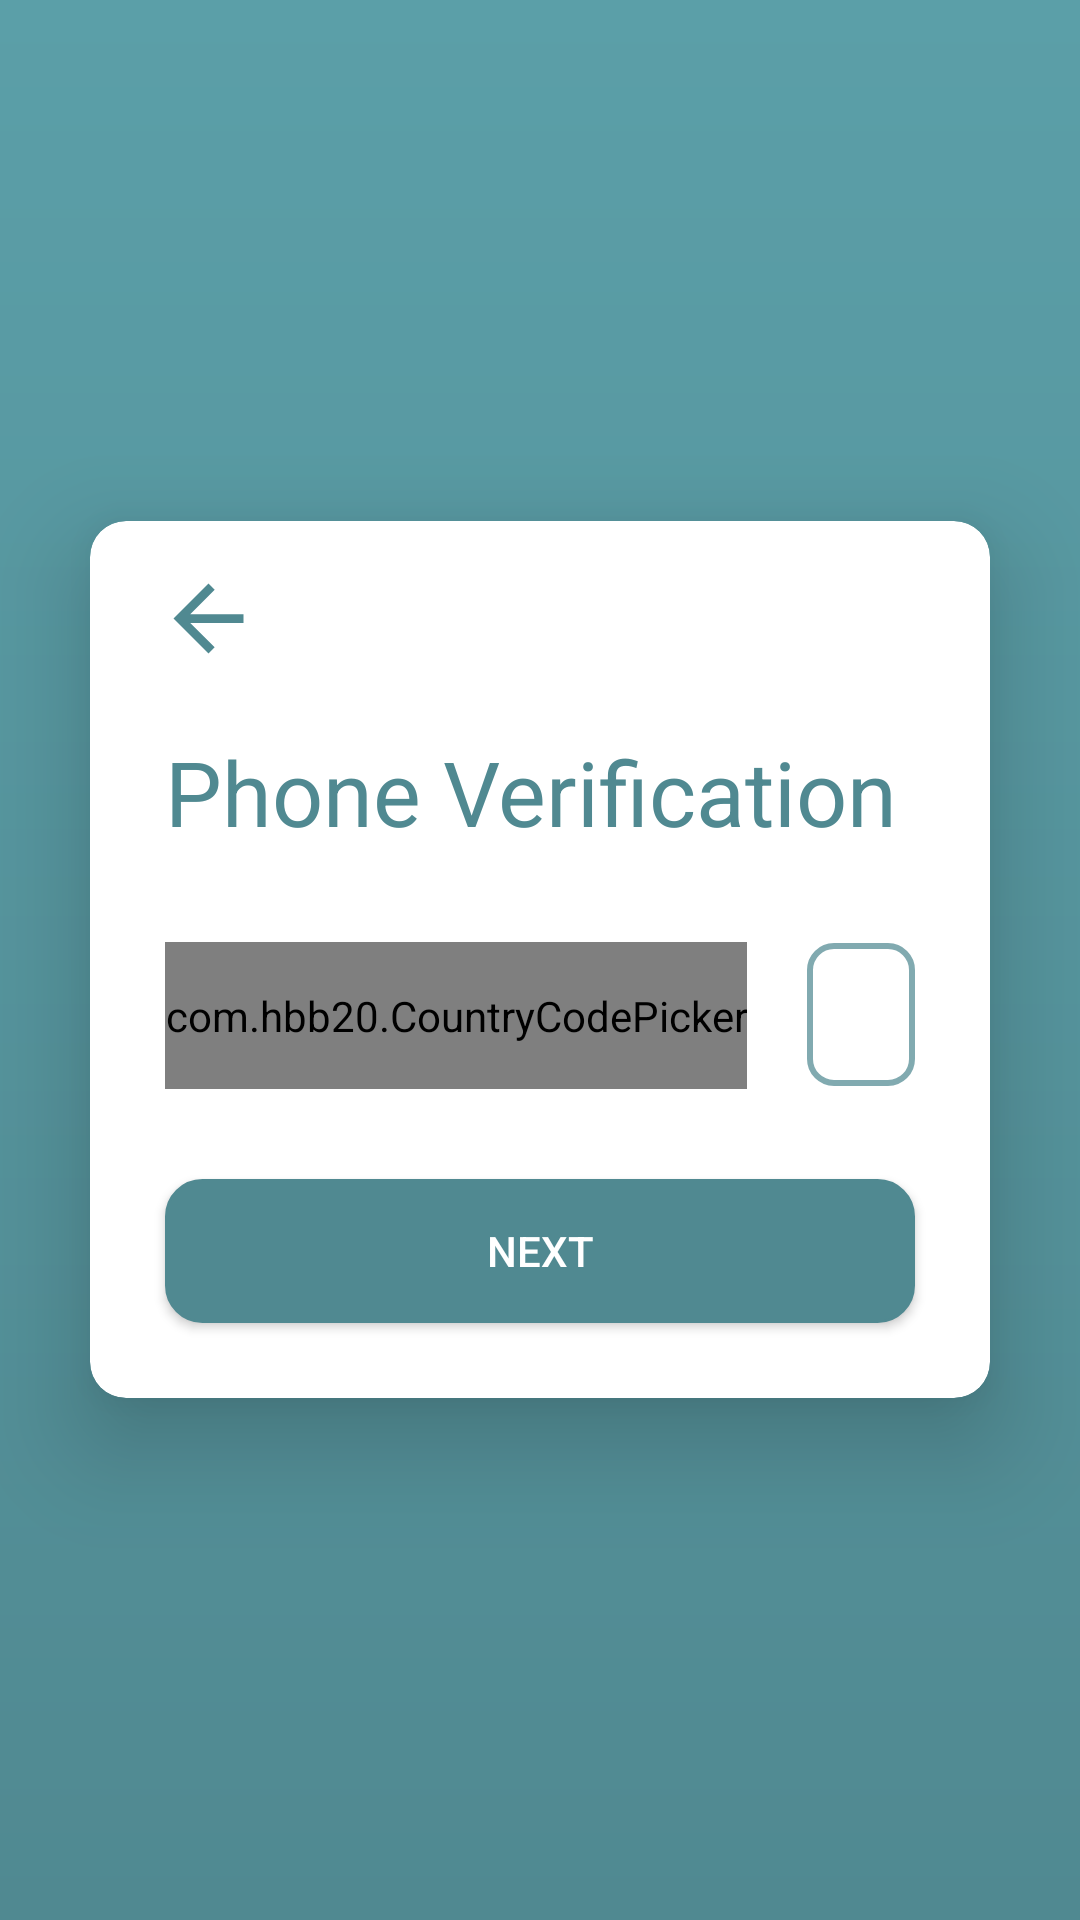

Screen size 1080 × 1920. Icon name, then its center in pixels as [x,y]:
back: [208,618]
